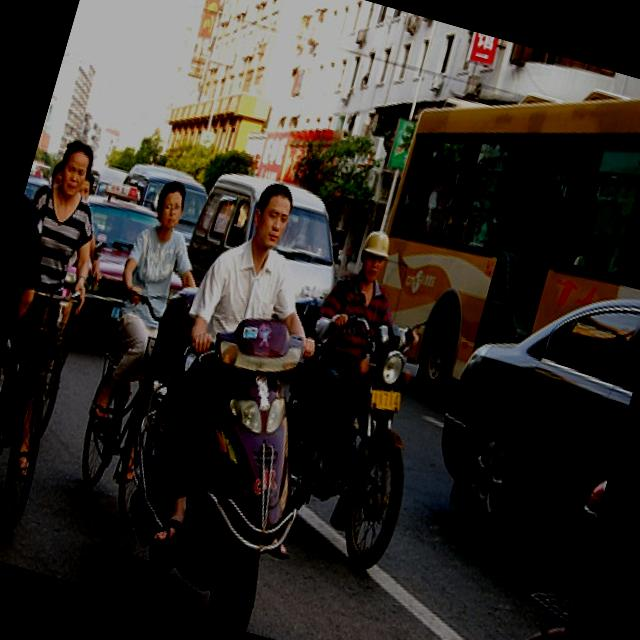Vehicle: (345, 22, 640, 440), (90, 288, 333, 632), (406, 244, 640, 589), (248, 291, 454, 575), (177, 158, 359, 324), (64, 194, 162, 342), (109, 155, 212, 250), (20, 162, 58, 213), (83, 188, 112, 220)
